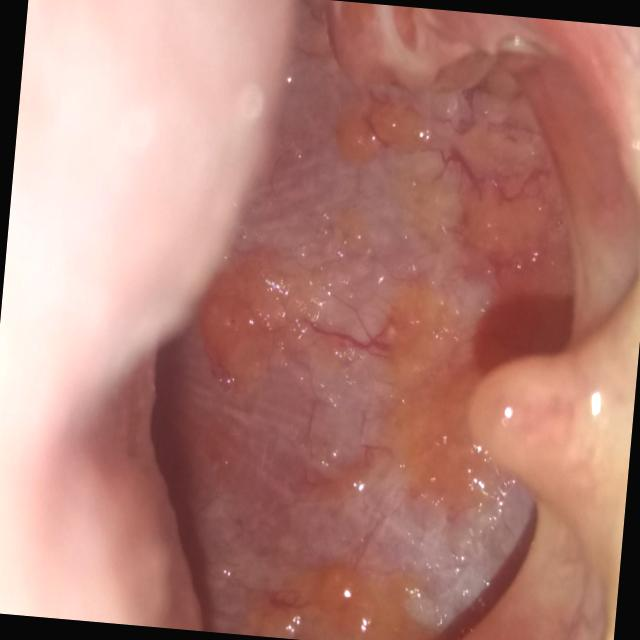Non Pharyngitis: (168, 46, 512, 584)
